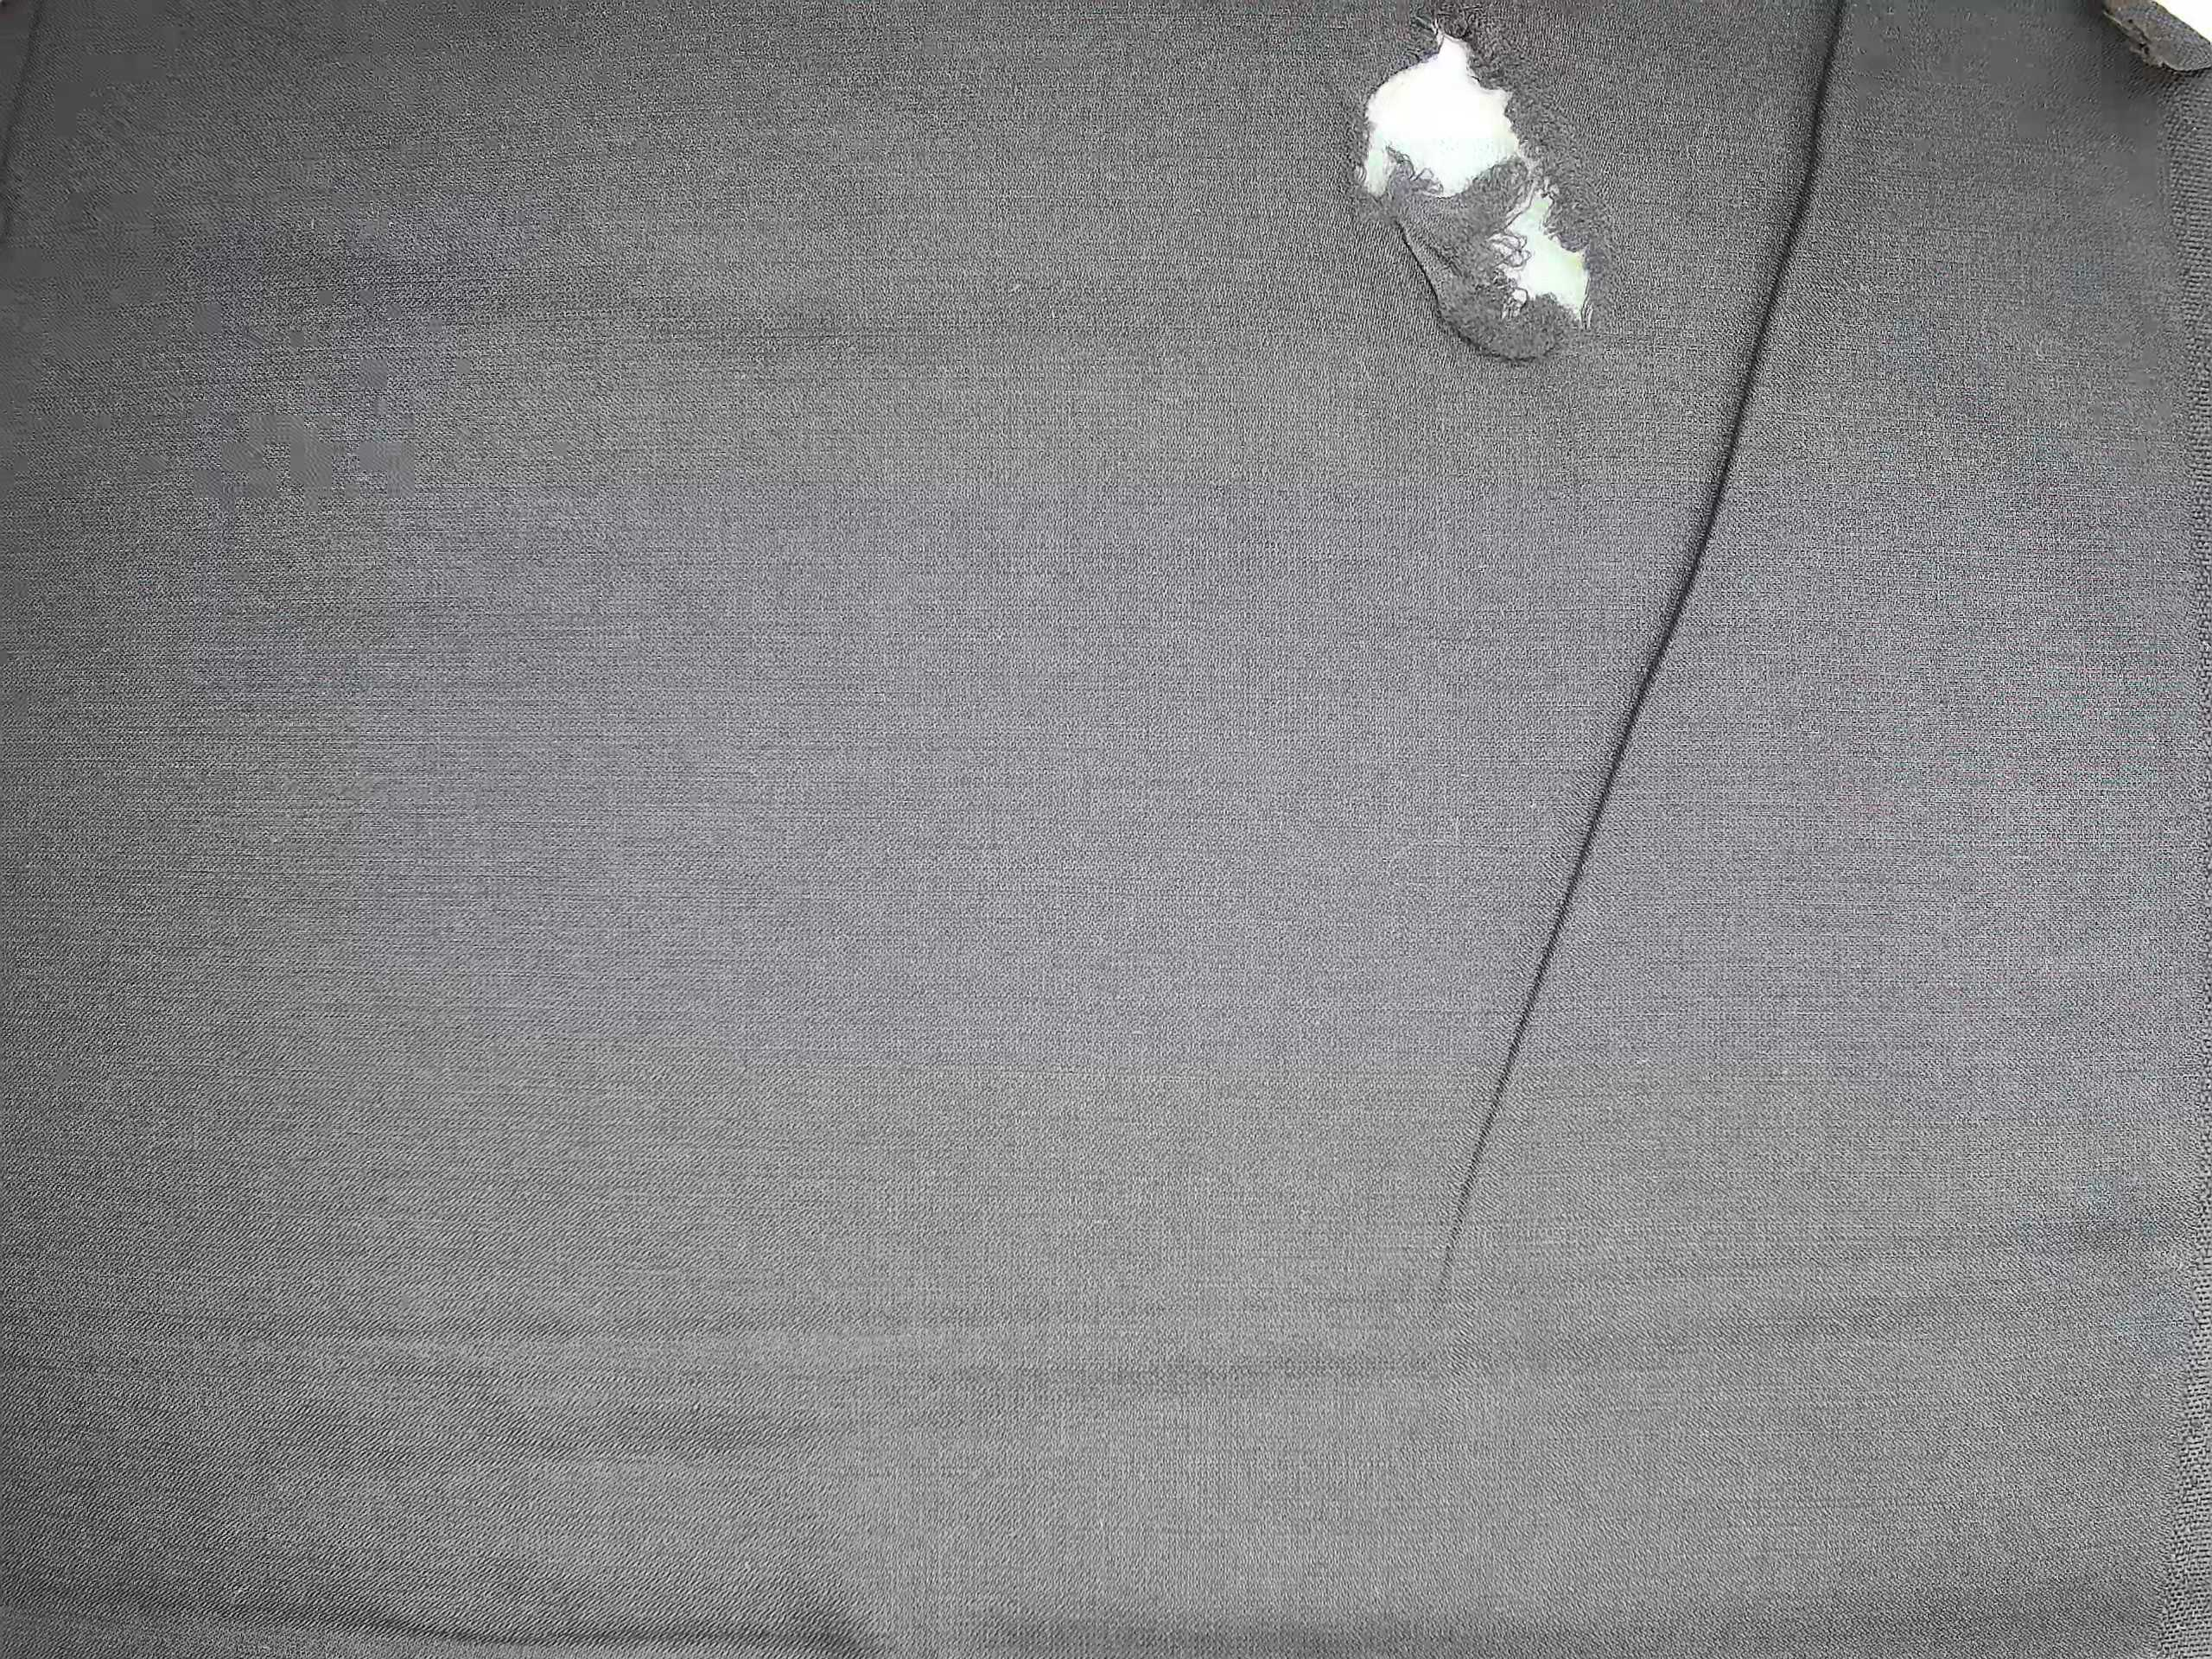brushed-hole: (1327, 7, 1635, 375)
